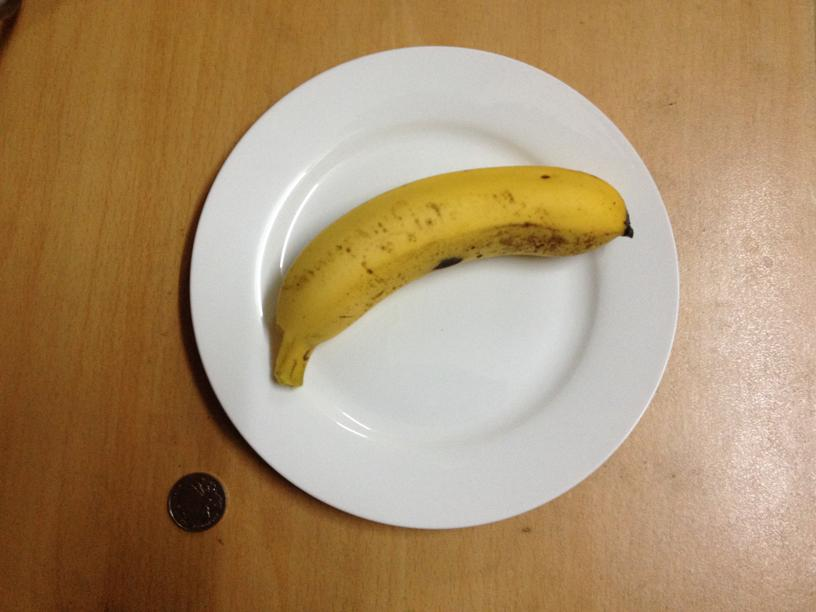banana: (271, 166, 631, 384)
coin: (167, 471, 224, 532)
